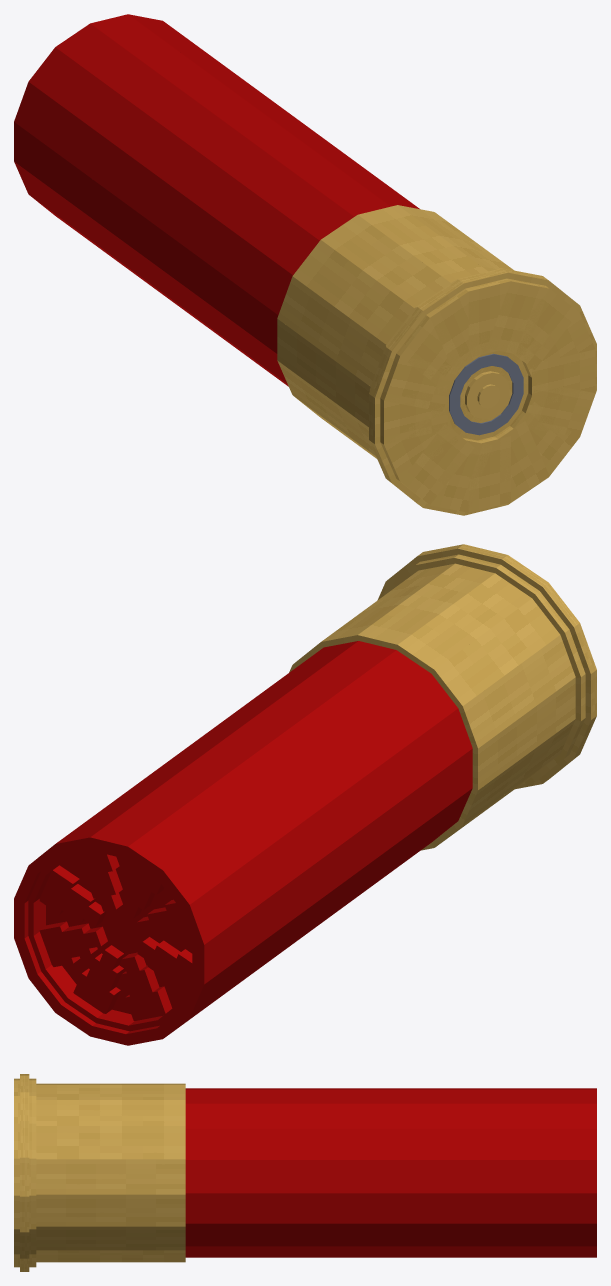
Rendered from shotgun_shell.obj.
3 views of the same model, one above another, from view 1: azimuth 30°, elevation 25°; view 2: azimuth 150°, elevation 25°; view 3: azimuth 270°, elevation 25° (orthographic). The views are drawn at different scales.
Parts seen in each view (by area): view 1: hexadecagon; view 2: hexadecagon; view 3: hexadecagon.
Part boxes in pixels (bbox=[...]): hexadecagon: bbox=[14, 14, 596, 515]; hexadecagon: bbox=[14, 544, 596, 1045]; hexadecagon: bbox=[14, 1074, 596, 1271].
Size of the model in its own units: 0.082 by 0.082 by 0.2437.
1 material, 1 textured.
